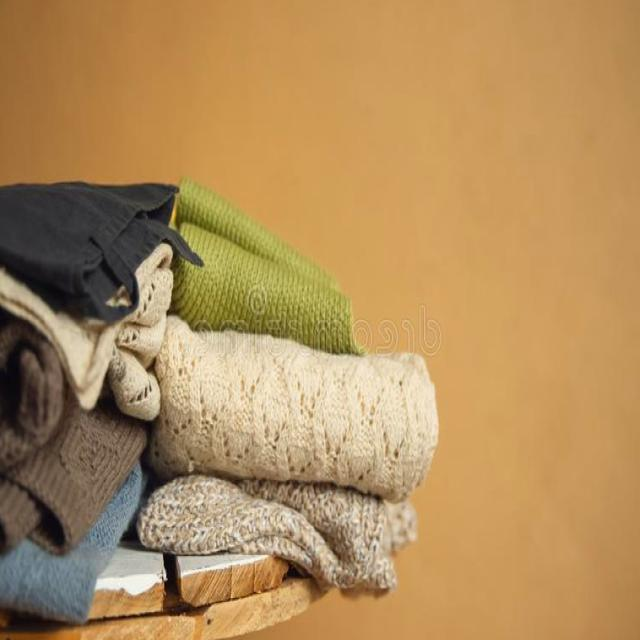clothes: (156, 208, 430, 636), (0, 179, 169, 640)
